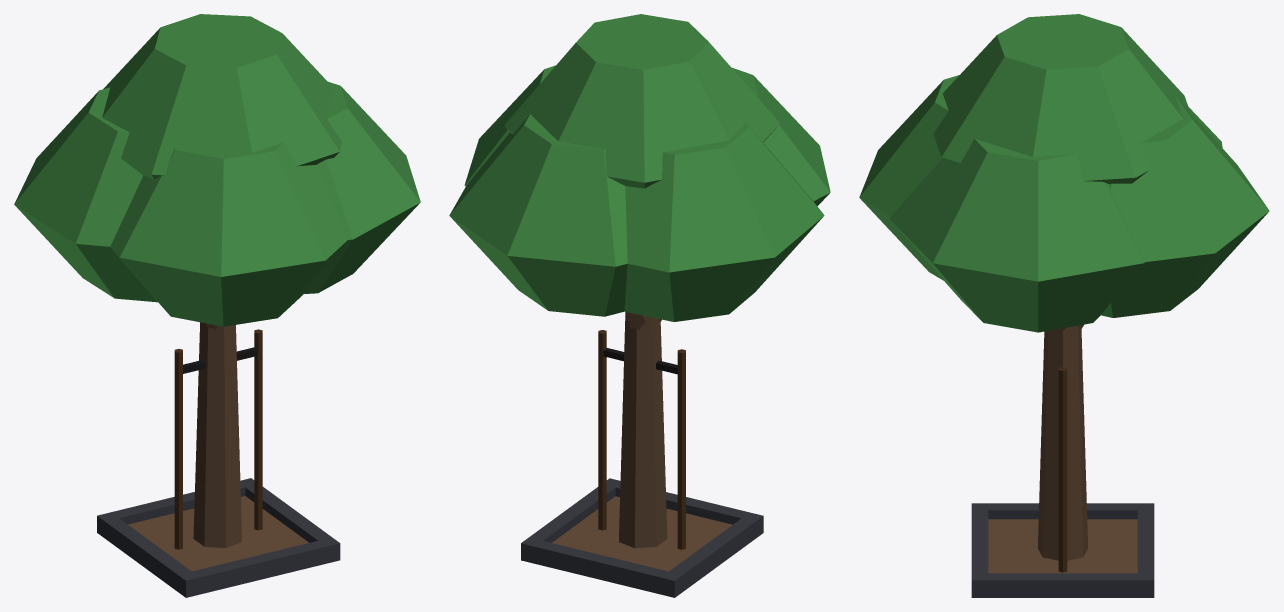
Rendered from StreetTree.glb.
3 renders of one model, left to right at view 1: azimuth 30°, elevation 25°; view 2: azimuth 150°, elevation 25°; view 3: azimuth 270°, elevation 25°, orthographic. The views are drawn at different scales.
Visible parts, largest first — view 1: Body; view 2: Body; view 3: Body.
Part boxes in pixels (bbox=[...]): Body: bbox=[14, 14, 420, 597]; Body: bbox=[449, 14, 830, 597]; Body: bbox=[859, 14, 1269, 597].
Bounding box in the file's own units: 2.95 × 4.13 × 2.97.
